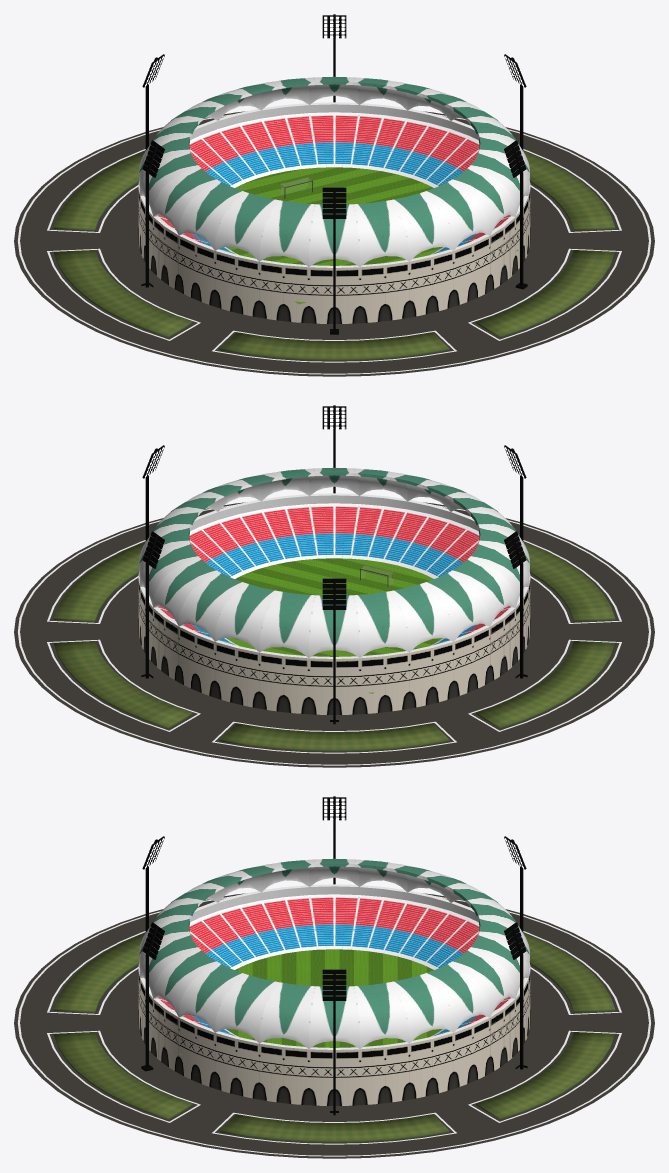
The model's file is porteria.glb.
The picture shows the model from 3 angles, top to bottom: view 1: azimuth 30°, elevation 25°; view 2: azimuth 150°, elevation 25°; view 3: azimuth 270°, elevation 25°; orthographic projection.
Visible parts, largest first — view 1: Ekana Stadium, Ground; view 2: Ekana Stadium, Ground; view 3: Ekana Stadium, Ground.
Part boxes in pixels (left/top/right/bottom): Ekana Stadium: left=14, top=14, right=654, bottom=376; Ground: left=226, top=167, right=518, bottom=304; Ekana Stadium: left=14, top=405, right=654, bottom=767; Ground: left=226, top=558, right=442, bottom=693; Ekana Stadium: left=14, top=796, right=654, bottom=1158; Ground: left=180, top=949, right=442, bottom=1054.
Size of the model in its own units: 95.04 by 22.94 by 95.04.
5 materials, 4 textured.
